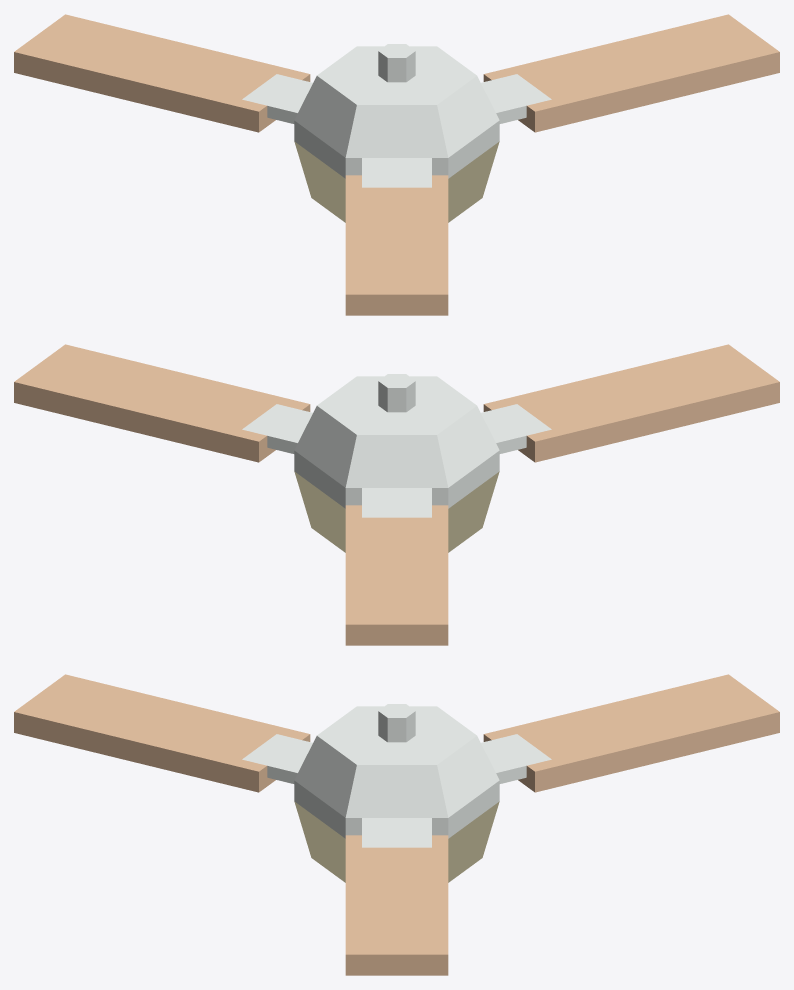
Rendered from ceilingFan.glb.
3 renders of one model, top to bottom at view 1: azimuth 30°, elevation 25°; view 2: azimuth 150°, elevation 25°; view 3: azimuth 270°, elevation 25°, orthographic.
Visible parts, largest first — view 1: ceilingFan(Clone); view 2: ceilingFan(Clone); view 3: ceilingFan(Clone).
Part boxes in pixels (x1,y1,x2,y2): ceilingFan(Clone): (14,14,779,315); ceilingFan(Clone): (14,344,779,645); ceilingFan(Clone): (14,674,779,975).
Size of the model in its own units: 0.4547 by 0.1337 by 0.5251.
